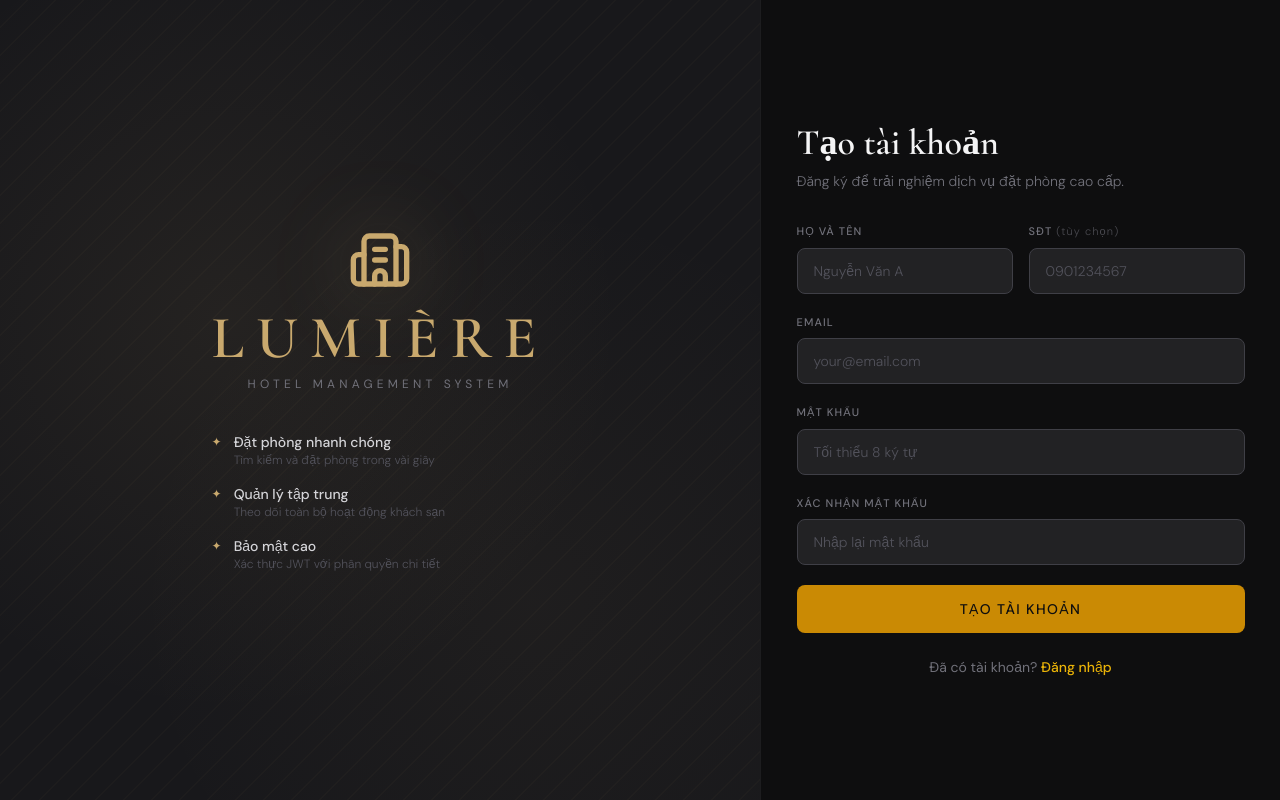
Scenario: RegisterPage › should show min full name error
Type "A" into the field with placeholder "Nguyễn Văn A".
click(904, 270); type("A")  # box [796, 248, 1012, 294]
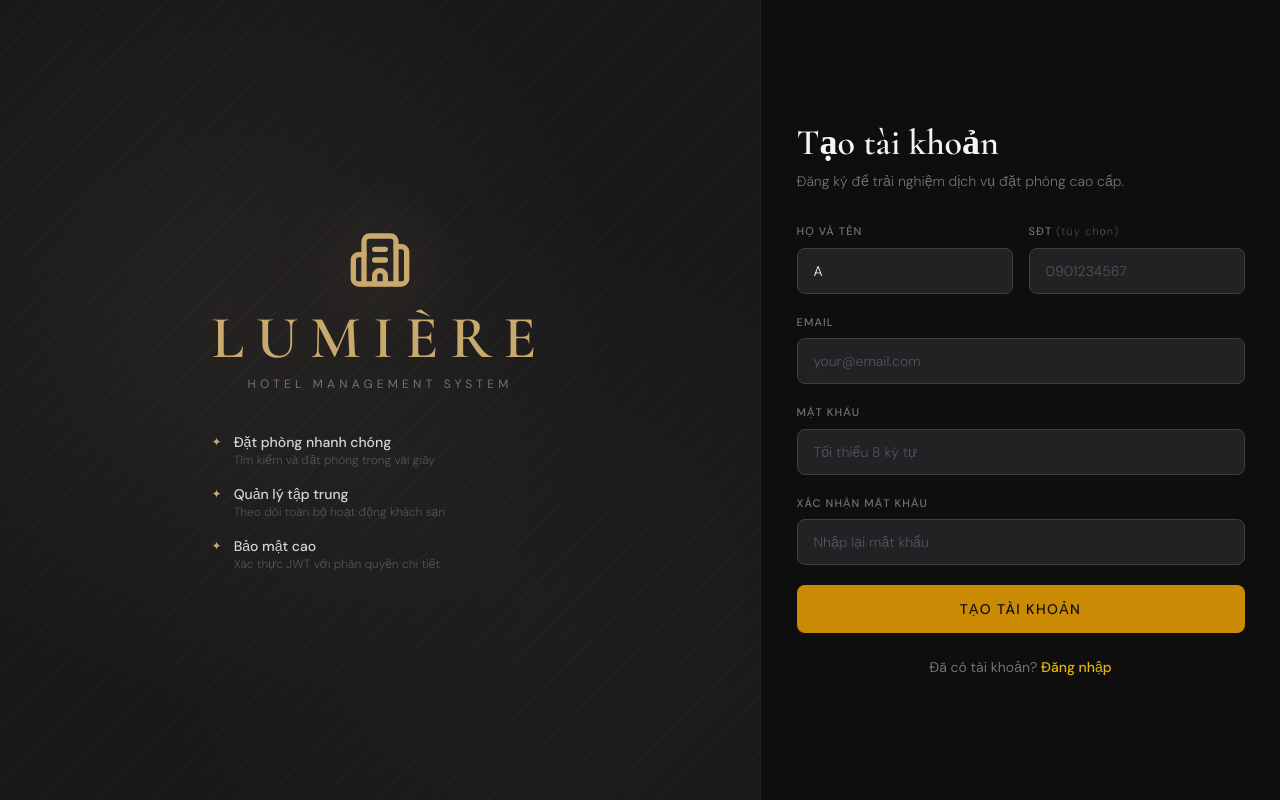
Leave the field with placeholder "Nguyễn Văn A", box [796, 248, 1012, 294]
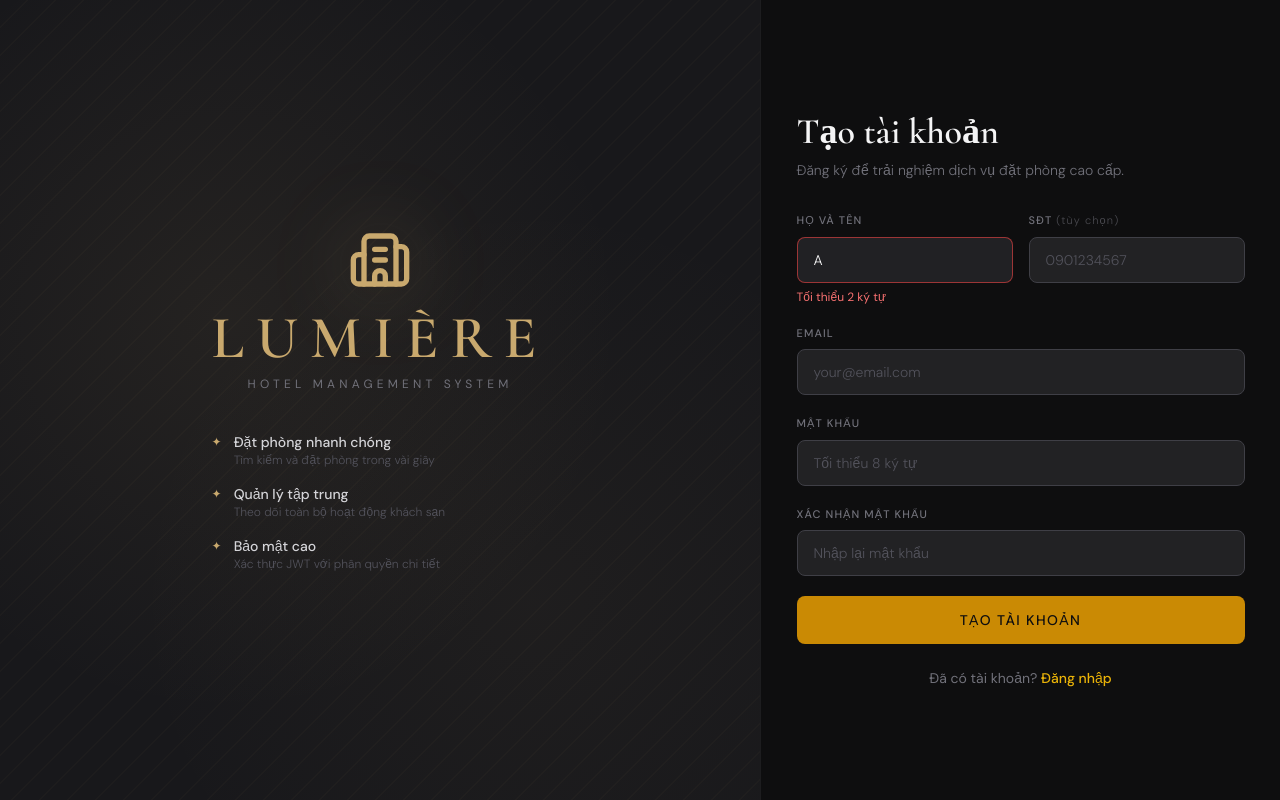
Now the text "Tối thiểu 2 ký tự" is shown, box [796, 288, 886, 304]
